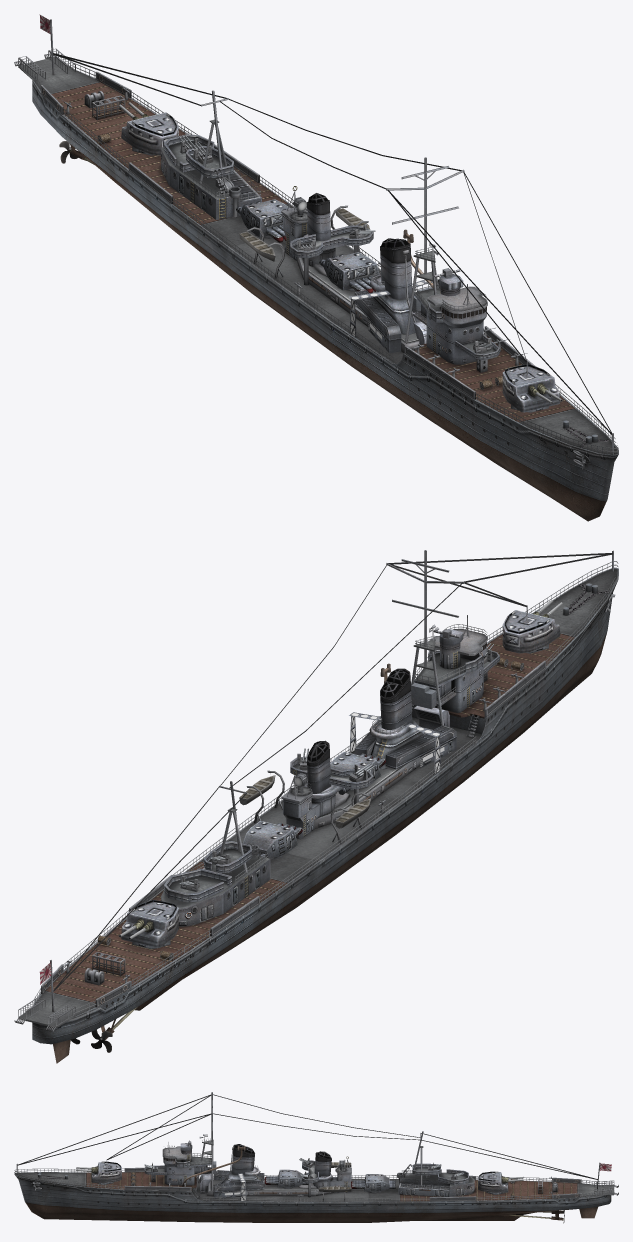
The model's file is Jap_yukikaze.FBX.
The picture shows the model from 3 angles, top to bottom: view 1: azimuth 30°, elevation 25°; view 2: azimuth 150°, elevation 25°; view 3: azimuth 270°, elevation 25°; orthographic projection. The views are drawn at different scales.
Parts seen in each view (by area): view 1: Jap_yukikaze, Jap_yukikaze_barbette_01, Jap_yukikaze_barbette_02; view 2: Jap_yukikaze, Jap_yukikaze_barbette_02, Jap_yukikaze_barbette_01; view 3: Jap_yukikaze, Jap_yukikaze_barbette_02, Jap_yukikaze_barbette_01.
Part boxes in pixels (x1,y1,x2,y2): Jap_yukikaze: [14, 14, 618, 521]; Jap_yukikaze_barbette_01: [502, 364, 560, 412]; Jap_yukikaze_barbette_02: [121, 112, 178, 155]; Jap_yukikaze: [14, 550, 618, 1063]; Jap_yukikaze_barbette_02: [121, 899, 178, 948]; Jap_yukikaze_barbette_01: [502, 610, 560, 653]; Jap_yukikaze: [14, 1092, 618, 1223]; Jap_yukikaze_barbette_02: [478, 1171, 508, 1192]; Jap_yukikaze_barbette_01: [91, 1161, 121, 1182].
Bounding box in the file's own units: 12.79 × 27.95 × 119.
2 materials, 2 textured.
